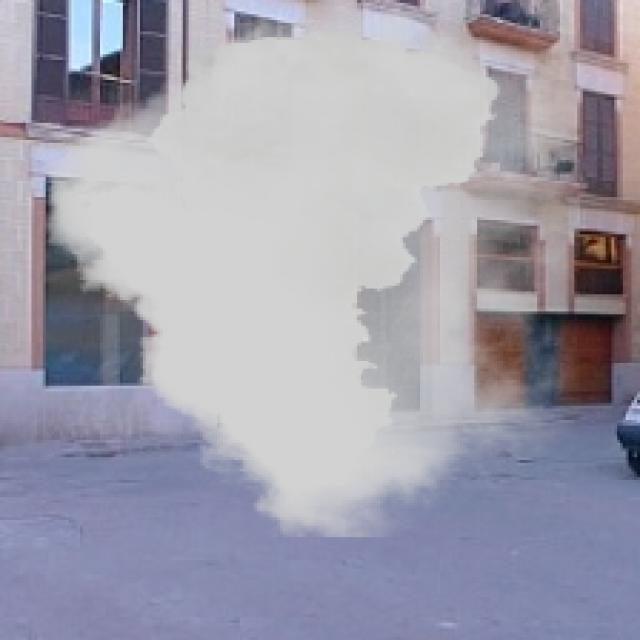smoke: (46, 6, 580, 537)
